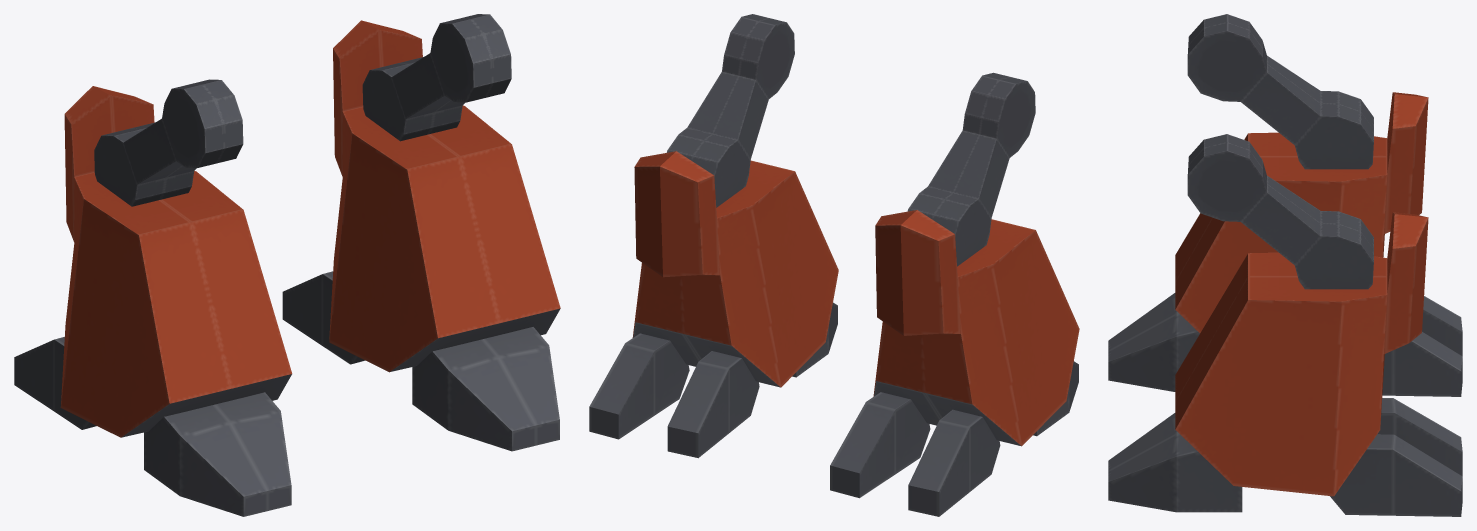
The model's file is player_body.obj.
The picture shows the model from 3 angles, left to right: view 1: azimuth 30°, elevation 25°; view 2: azimuth 150°, elevation 25°; view 3: azimuth 270°, elevation 25°; orthographic projection. The views are drawn at different scales.
Parts seen in each view (by area): view 1: player-body_Cube.002; view 2: player-body_Cube.002; view 3: player-body_Cube.002.
Boxes of the visible parts, <box> form: player-body_Cube.002: <box>14,14,560,516</box>; player-body_Cube.002: <box>589,14,1079,516</box>; player-body_Cube.002: <box>1108,14,1462,516</box>.
Bounding box in the file's own units: 3.98 × 3.31 × 3.06.
Materials: 1 (1 with a texture image).
